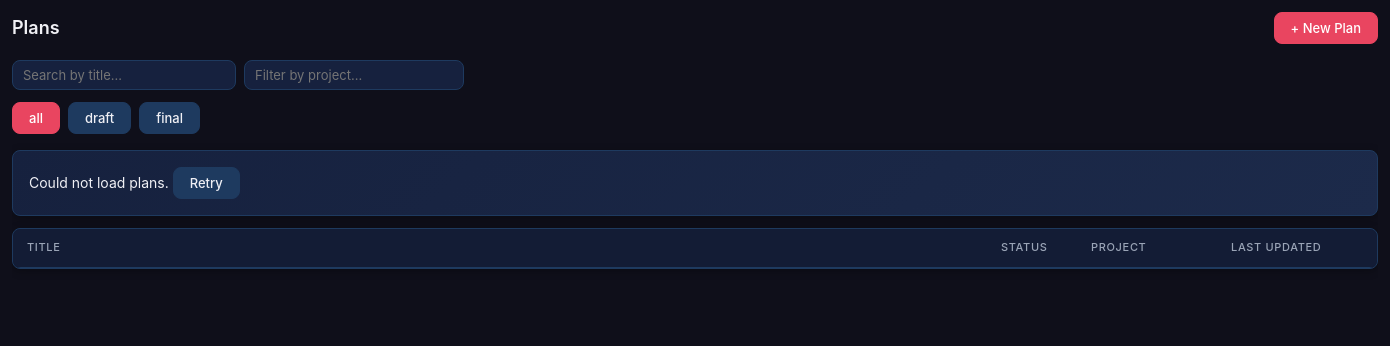
Test: PlansIndexPage › shows retryable errors while keeping filters available
The width and height of the screenshot is (1390, 346).
expect the message shows "Could not load plans.": met, box top-left (29, 174), bottom-right (173, 191)
expect the field with placeholder "Search by title..." is shown: met, box top-left (12, 60), bottom-right (236, 90)
Click the button "Retry" at {"x": 206, "y": 183}, box top-left (173, 167), bottom-right (240, 199)
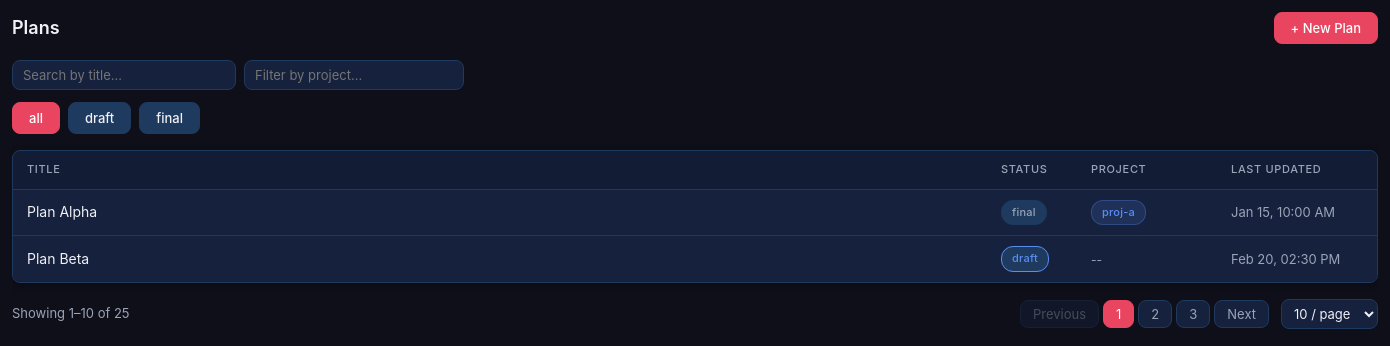
expect the text "Plan Alpha" is shown: met, box top-left (13, 189), bottom-right (987, 236)
